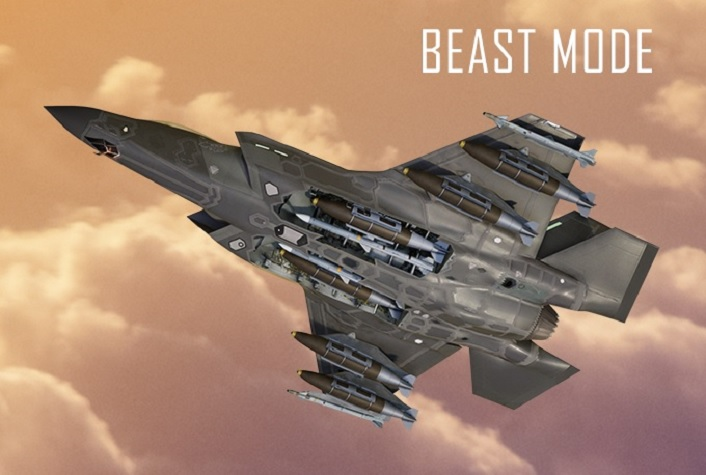F-35 Lightning: (23, 61, 676, 427)
